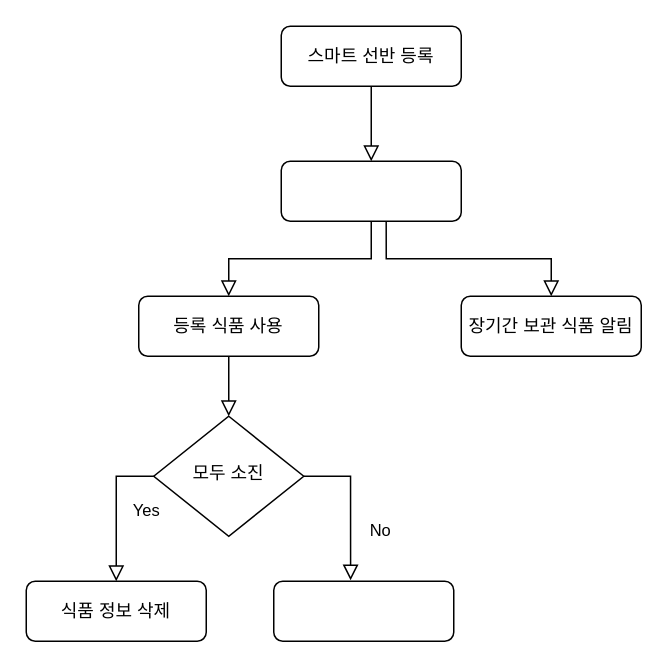
This 668x668 diagram has some shape labels left out. Here are the shapes that lost their labels. From the top down, the box of each, then its label:
(280, 160, 461, 221): 식품 최초 등록
(272, 580, 454, 641): 식품 정보 변경
